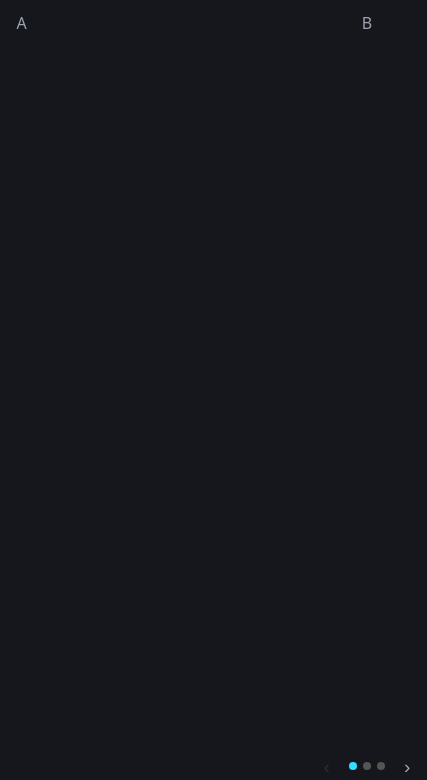
Scenario: OptionGrid › goes to the next page on a left swipe
This screenshot has width=427, height=780.
Press the mouse on the element showing "A B" at (22, 23), box [16,12,372,34]
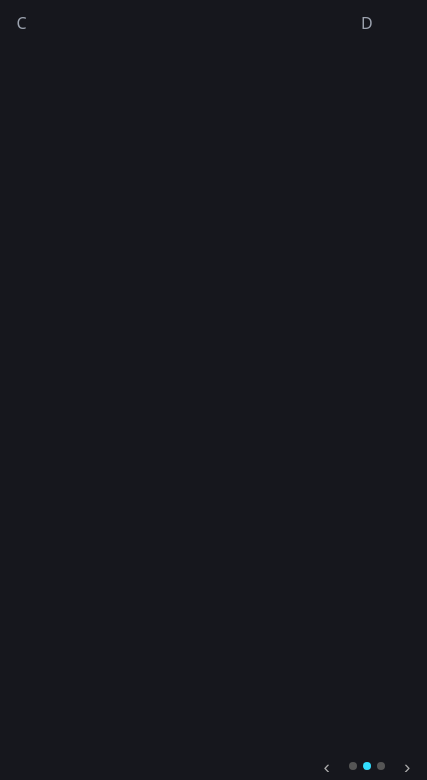
Expected: the text with test id "card-2" reads "C", [16,12,27,34]
